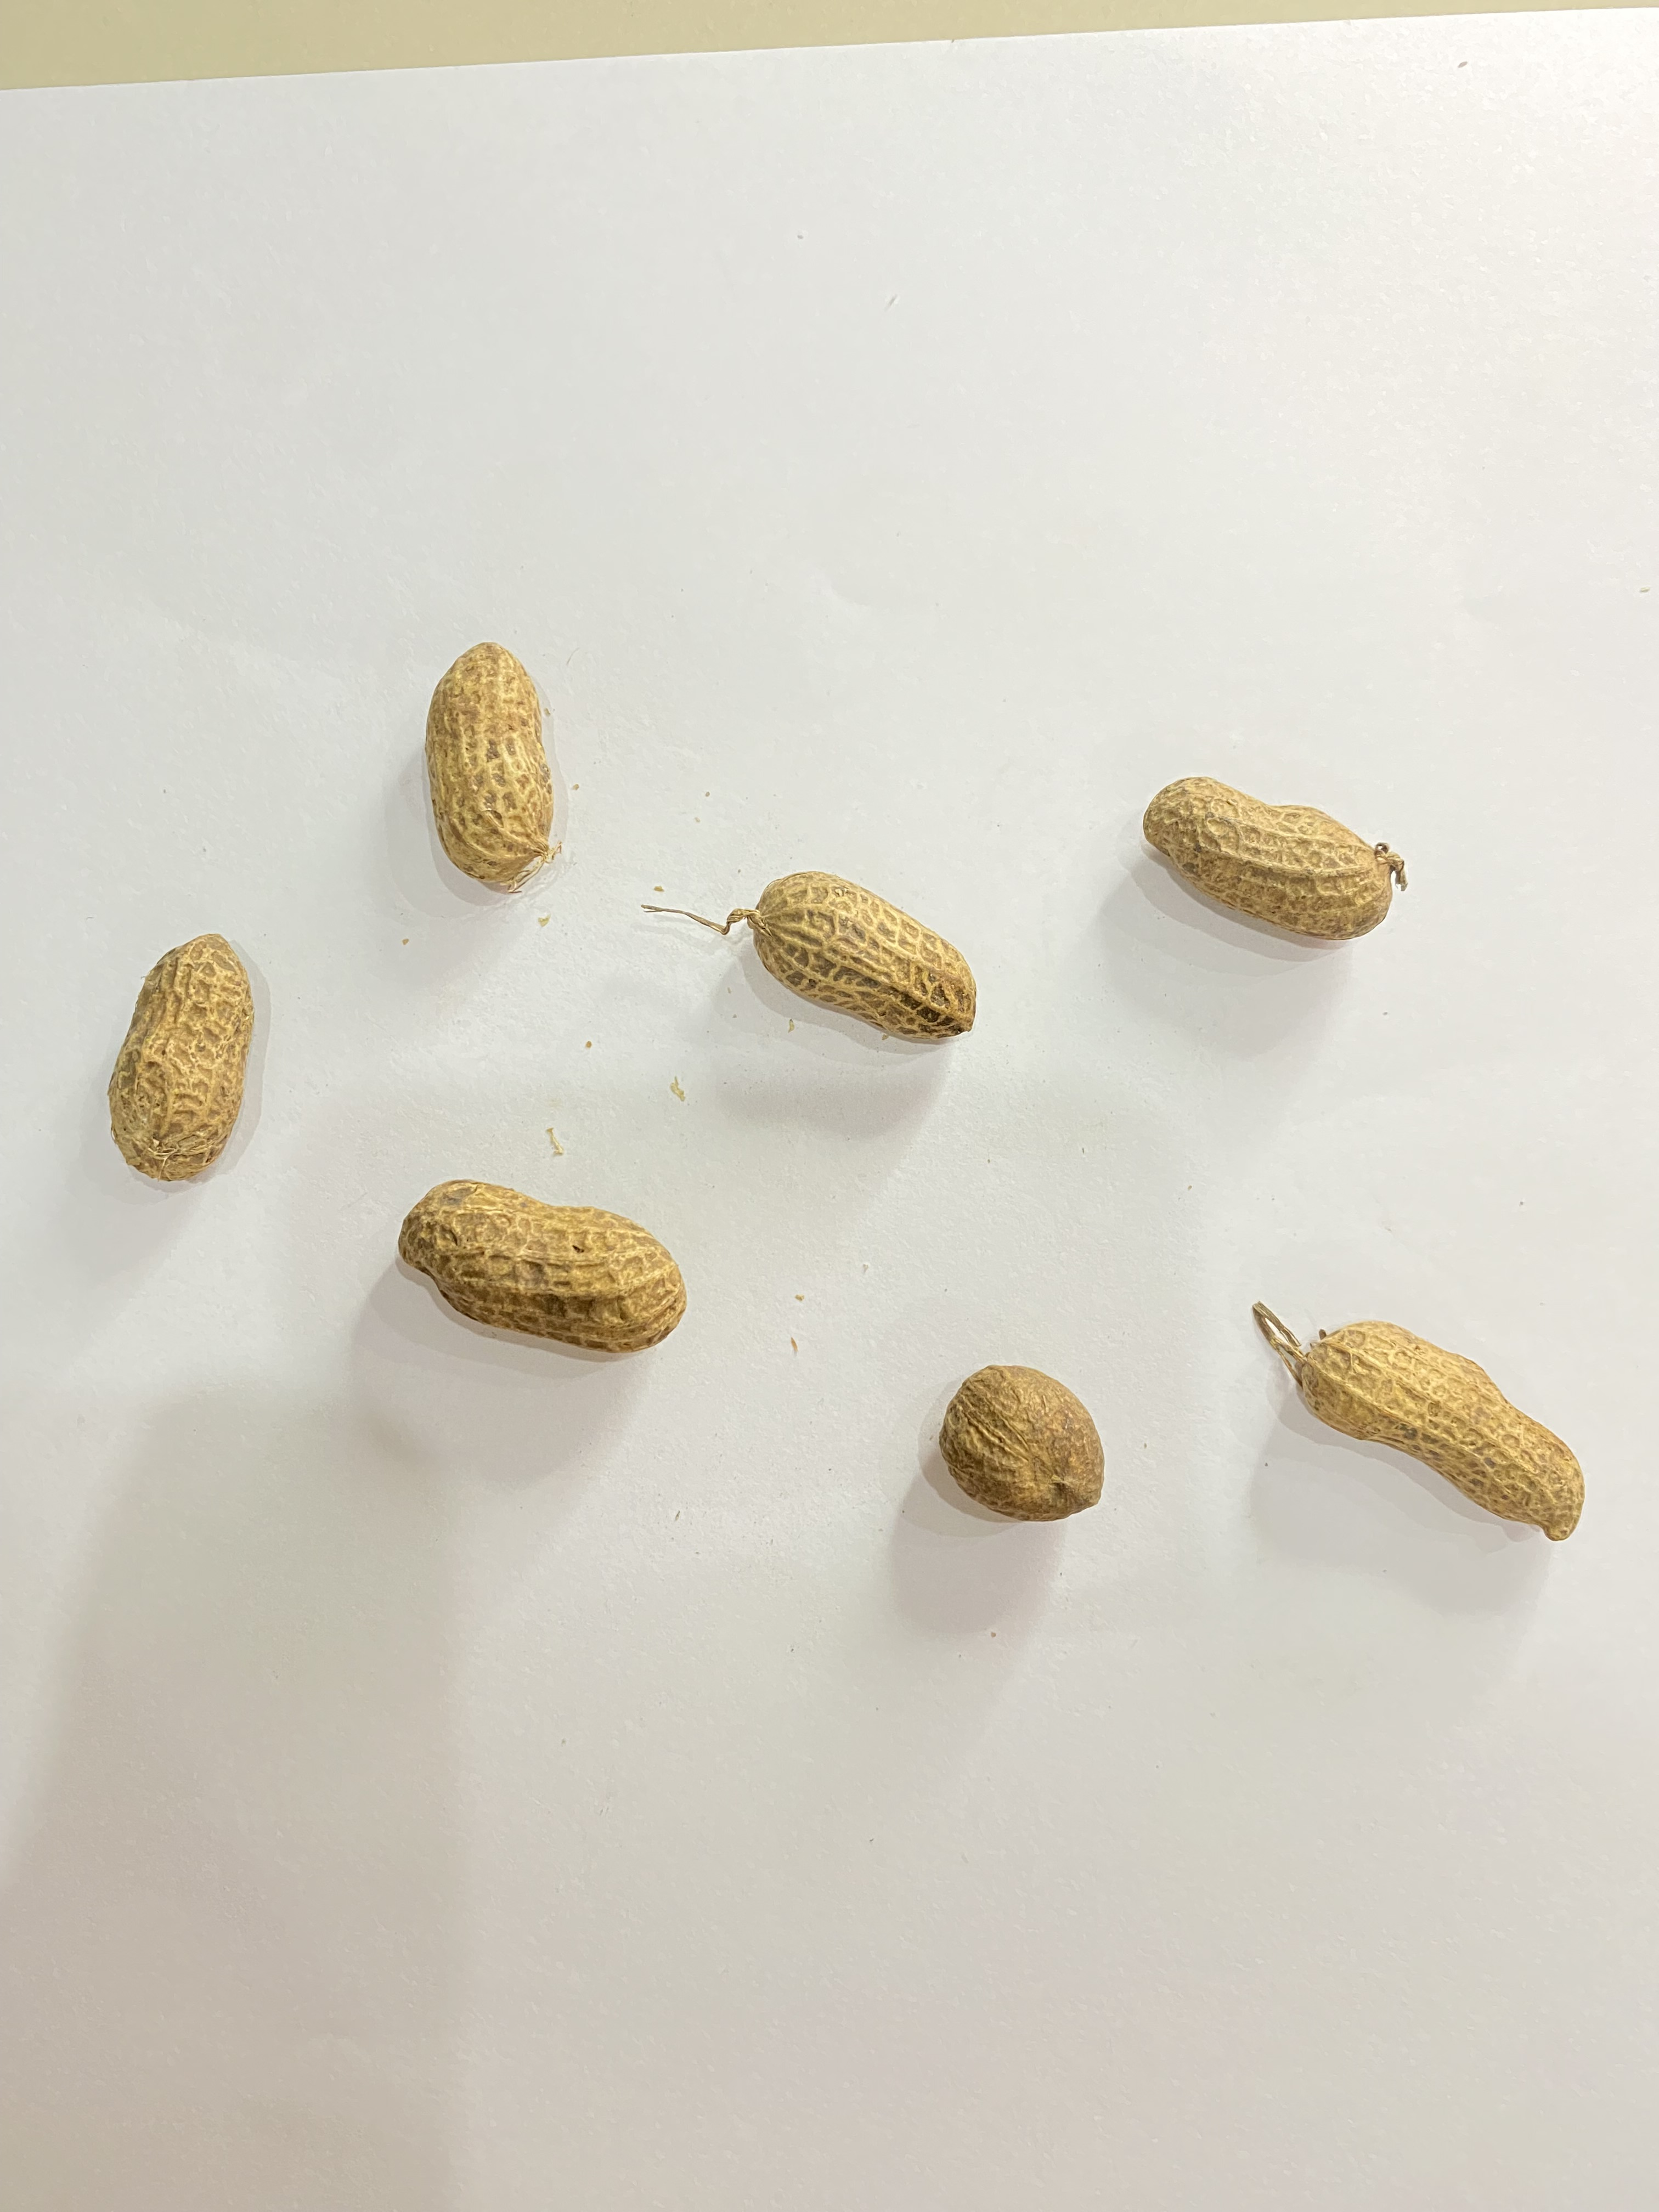kacang1: (87, 894, 300, 1177), (1136, 752, 1431, 954), (711, 869, 1012, 1064), (410, 603, 591, 914), (931, 1332, 1112, 1552)
kacang2: (1229, 1301, 1629, 1562), (361, 1151, 728, 1397)
